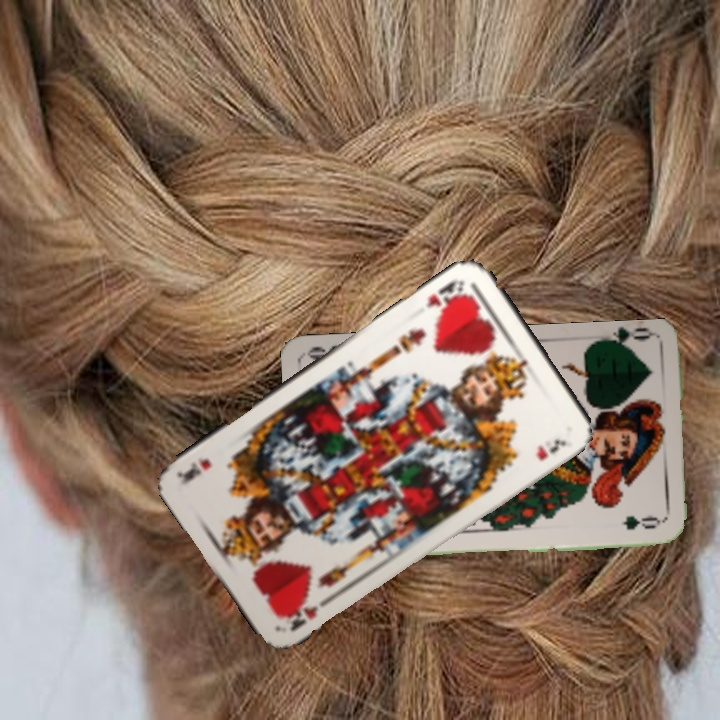GO: (595, 326, 654, 354)
HK: (284, 592, 335, 634), (421, 275, 468, 313)
